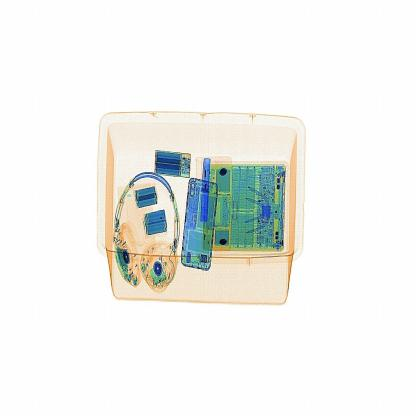pliers: (197, 151, 221, 231)
